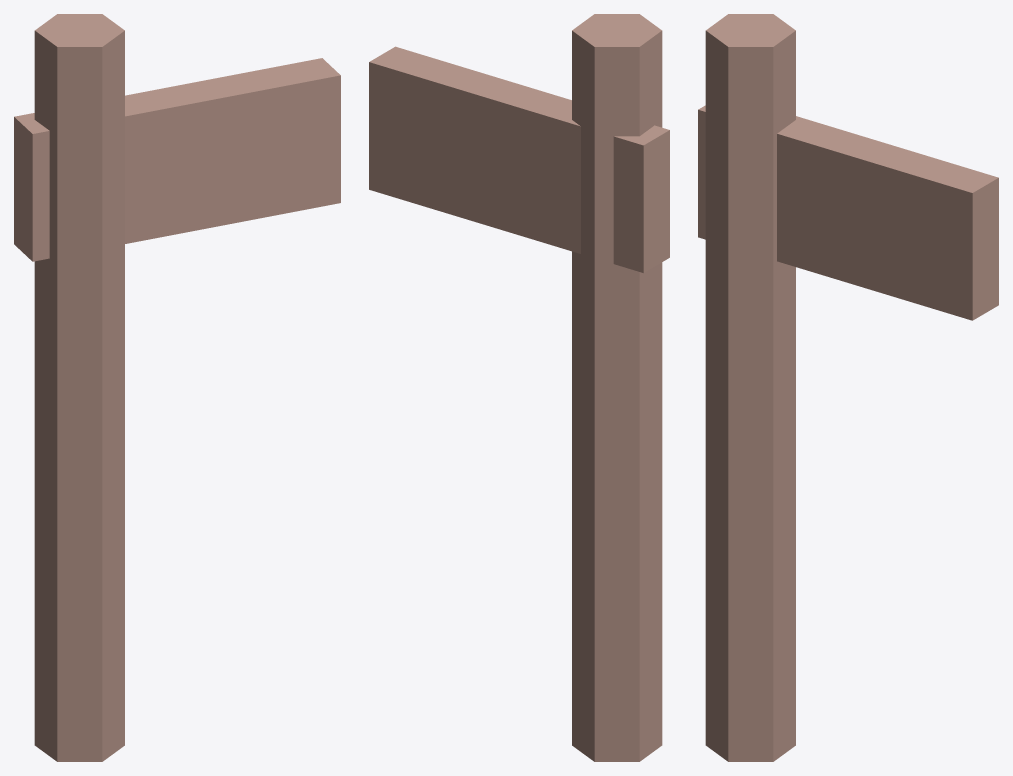
File: low_poly_signpost.glb
3 renders of one model, left to right at view 1: azimuth 30°, elevation 25°; view 2: azimuth 150°, elevation 25°; view 3: azimuth 330°, elevation 25°, orthographic.
Parts seen in each view (by area): view 1: Signpost; view 2: Signpost; view 3: Signpost.
Part boxes in pixels (x1,y1,x2,y2): Signpost: [14, 14, 340, 761]; Signpost: [369, 14, 669, 761]; Signpost: [698, 14, 998, 761].
Bounding box in the file's own units: 0.605 × 1.4 × 0.16.
